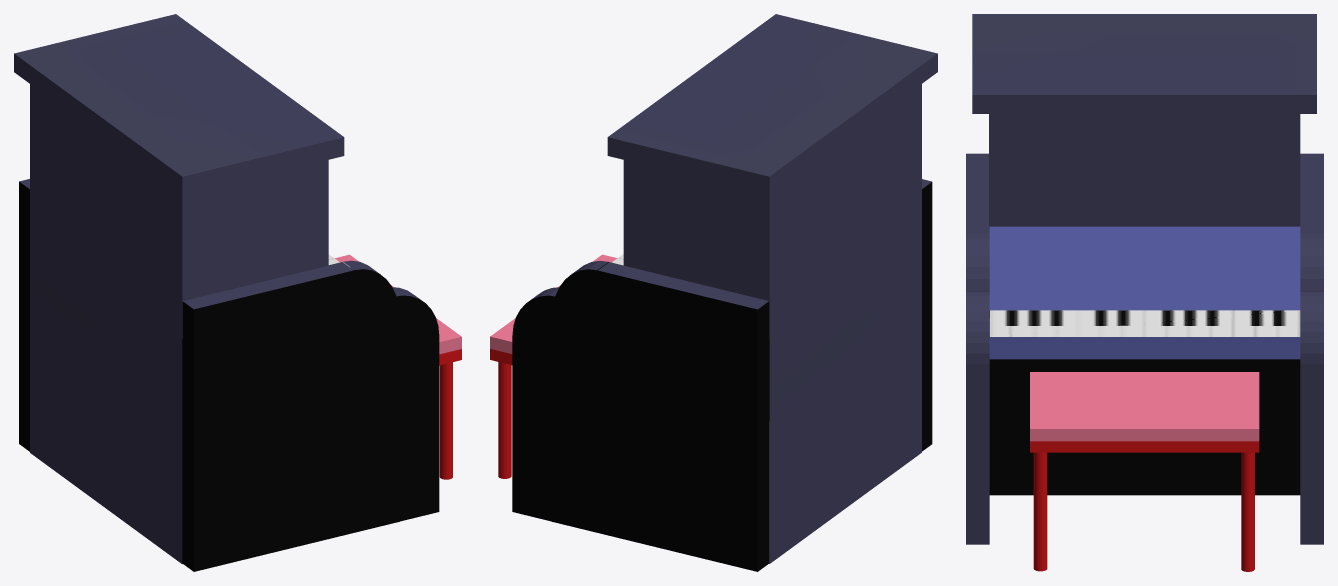
File: Piano.obj
3 renders of one model, left to right at view 1: azimuth 30°, elevation 25°; view 2: azimuth 150°, elevation 25°; view 3: azimuth 270°, elevation 25°, orthographic. The views are drawn at different scales.
Visible parts, largest first — view 1: Plano, Plano.001; view 2: Plano, Plano.001; view 3: Plano, Plano.001.
Part boxes in pixels (<box>): Plano: <box>14,14,439,571</box>; Plano.001: <box>335,254,461,479</box>; Plano: <box>512,14,937,571</box>; Plano.001: <box>490,254,616,478</box>; Plano: <box>966,14,1323,544</box>; Plano.001: <box>1030,372,1259,571</box>.
Bounding box in the file's own units: 4.77 × 5.88 × 4.69.
Materials: 2 (2 with a texture image).
